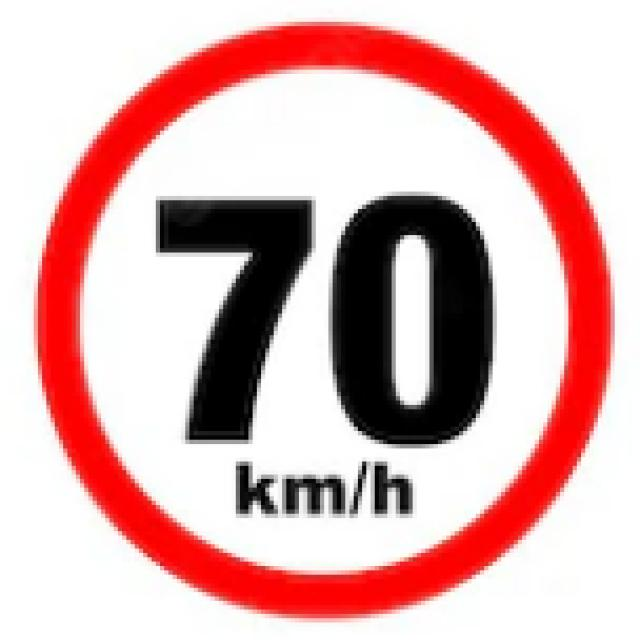Speed Limit -70-: (148, 191, 500, 452)
